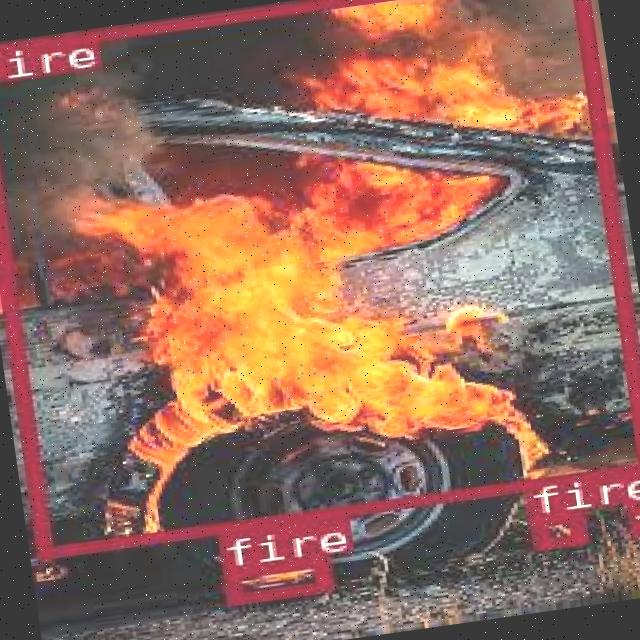fire: (0, 0, 640, 557), (220, 554, 328, 603), (528, 508, 584, 548), (625, 496, 640, 532)
